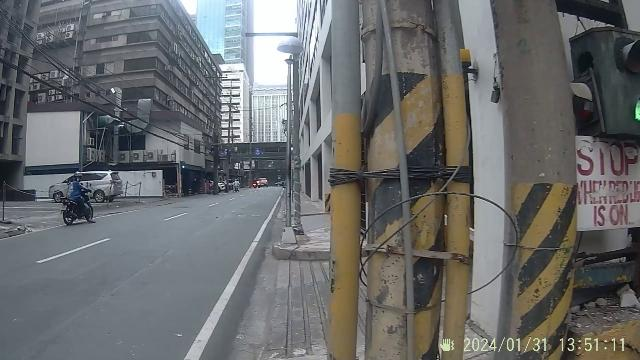cracked_pavement: (560, 278, 640, 358)
lamp_post: (275, 34, 301, 248)
utility_post: (326, 0, 476, 336)
